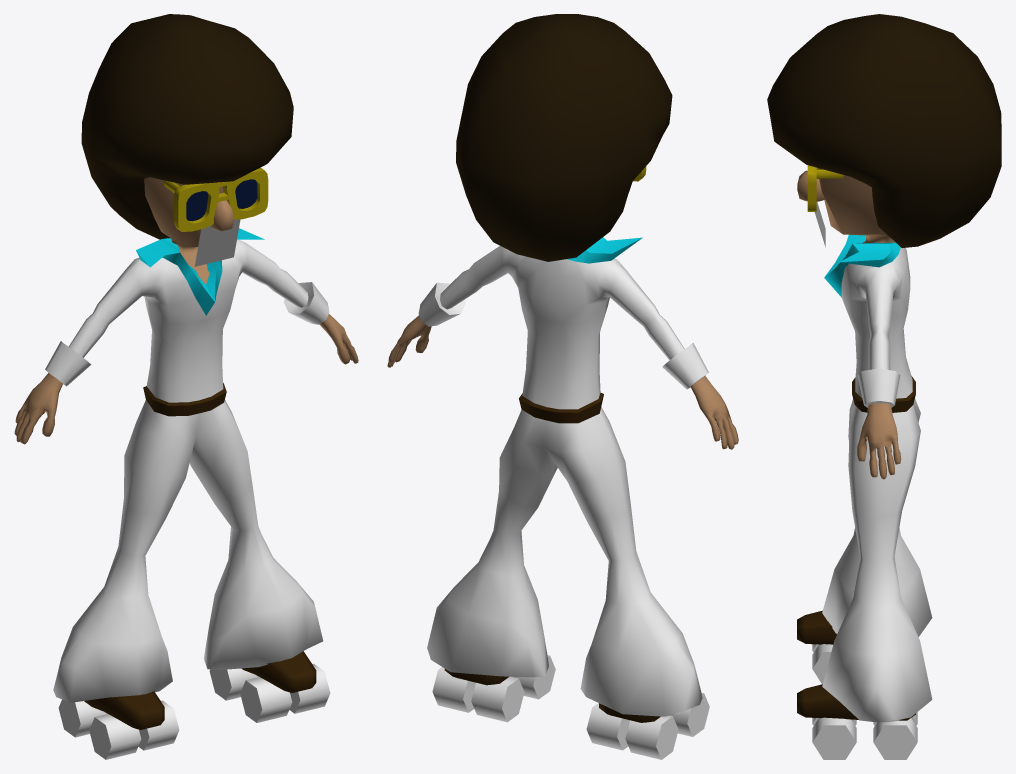
Rendered from Male1.fbx.
3 renders of one model, left to right at view 1: azimuth 30°, elevation 25°; view 2: azimuth 150°, elevation 25°; view 3: azimuth 270°, elevation 25°, orthographic. The views are drawn at different scales.
Visible parts, largest first — view 1: Male1, mouth; view 2: Male1; view 3: Male1.
Boxes of the visible parts, x1,y1,x2,y2 form: Male1: (14,14,358,759); mouth: (194,219,240,266); Male1: (387,14,738,759); Male1: (767,14,1001,759).
Bounding box in the file's own units: 227 × 441 × 137.
